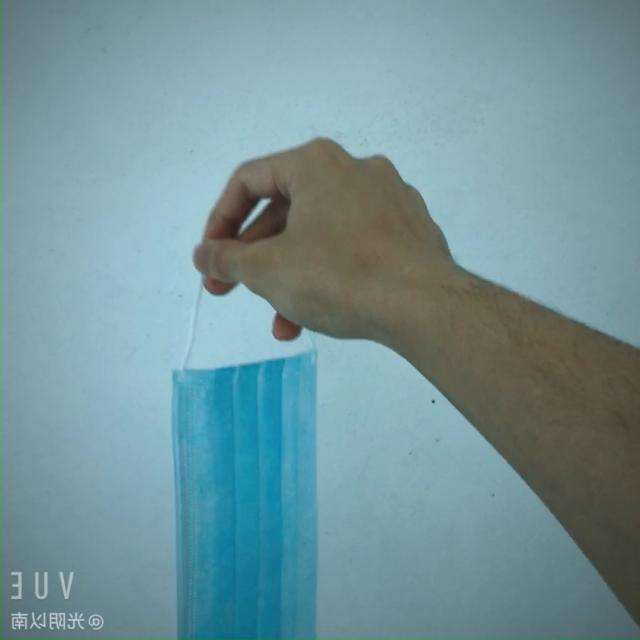face mask: (152, 333, 372, 629)
